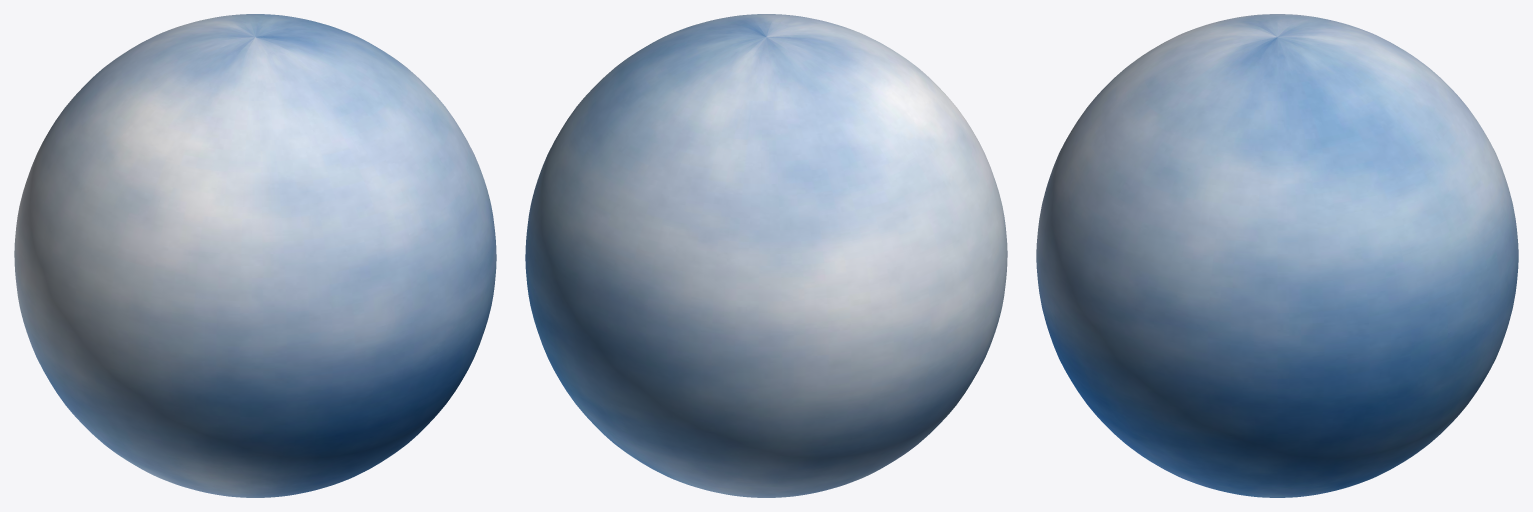
The model's file is skySphere.obj.
3 renders of one model, left to right at view 1: azimuth 30°, elevation 25°; view 2: azimuth 150°, elevation 25°; view 3: azimuth 270°, elevation 25°, orthographic.
Parts seen in each view (by area): view 1: Sphere; view 2: Sphere; view 3: Sphere.
Part boxes in pixels (x1,y1,x2,y2): Sphere: [14, 14, 496, 497]; Sphere: [525, 14, 1007, 497]; Sphere: [1036, 14, 1518, 497].
Bounding box in the file's own units: 713 × 713 × 713.
Materials: 1 (1 with a texture image).
